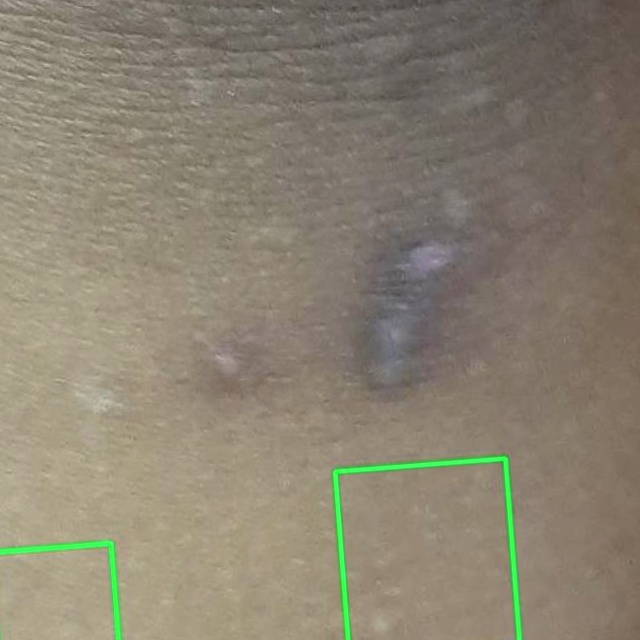Scabies: (335, 458, 519, 639), (0, 543, 118, 639)
